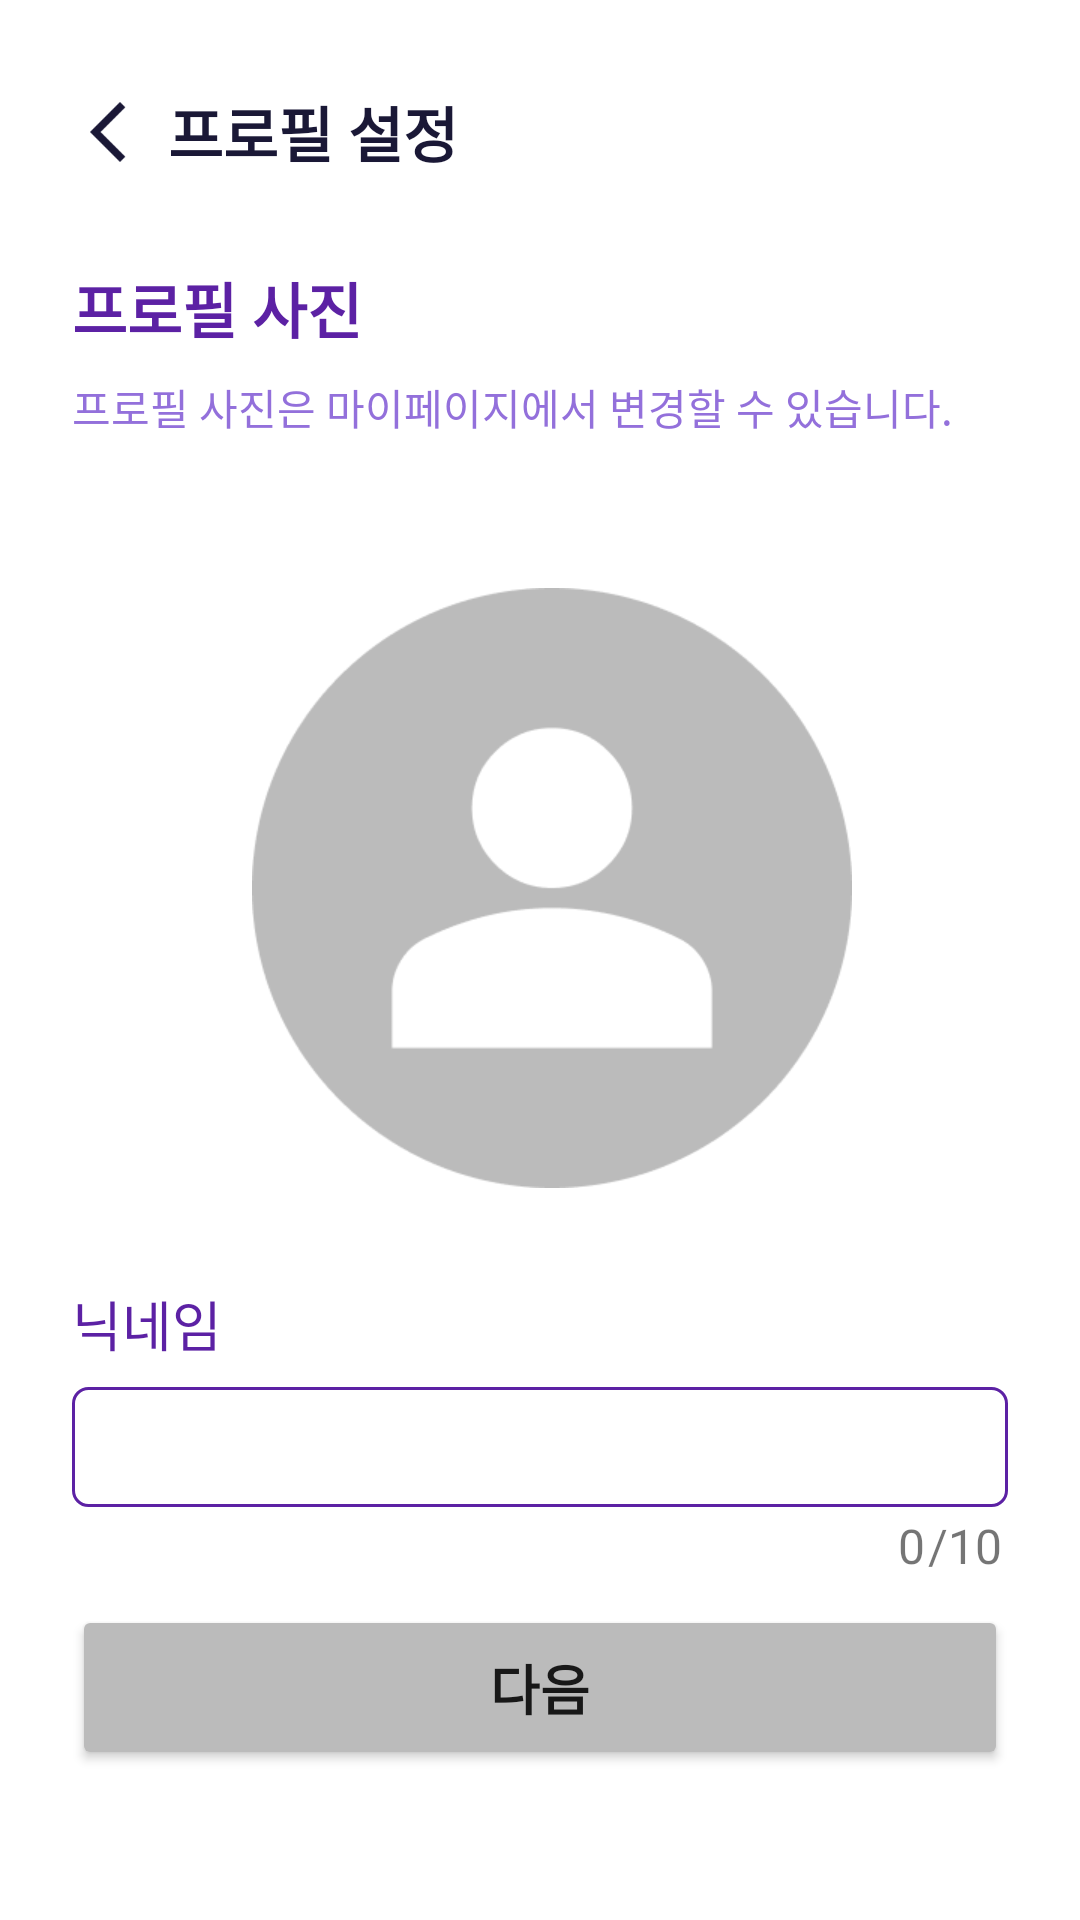

Icons on this 1080 x 1920 Android screen, each with the point to tap as (x=x, y=y):
back: (x=107, y=132)
